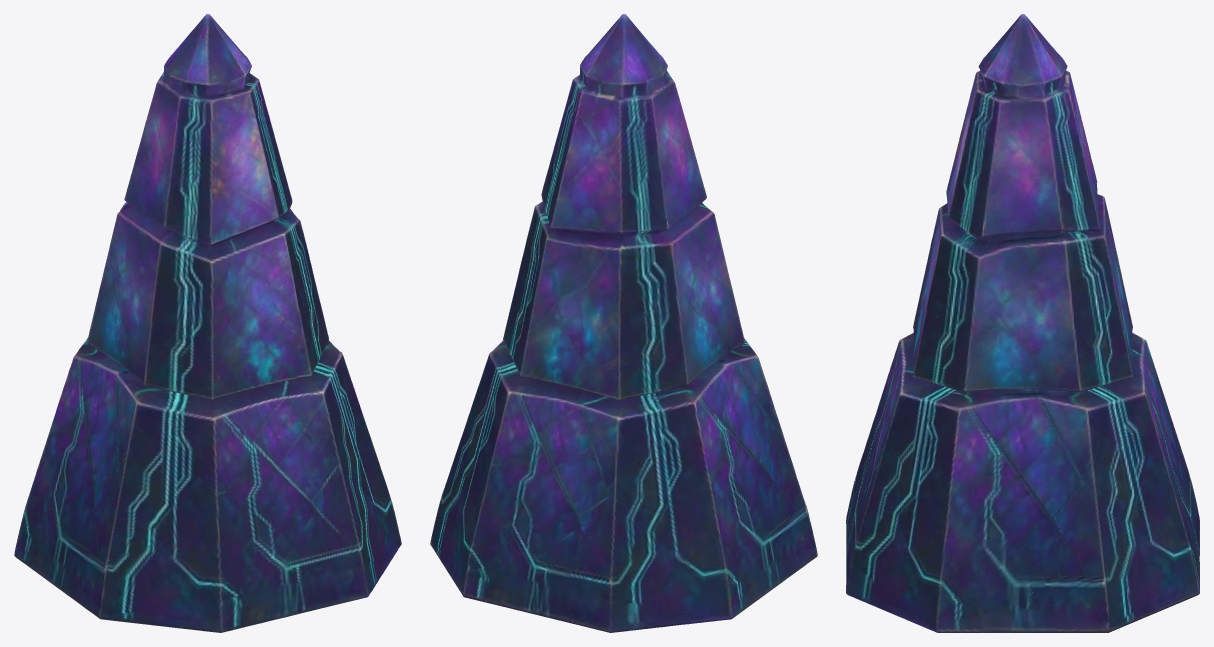
File: prism_matrix.glb
3 views of the same model, side by side, from view 1: azimuth 30°, elevation 25°; view 2: azimuth 150°, elevation 25°; view 3: azimuth 270°, elevation 25° (orthographic).
Size of the model in its own units: 1.12 by 1.9 by 1.12.
Materials: 1 (1 with a texture image).
